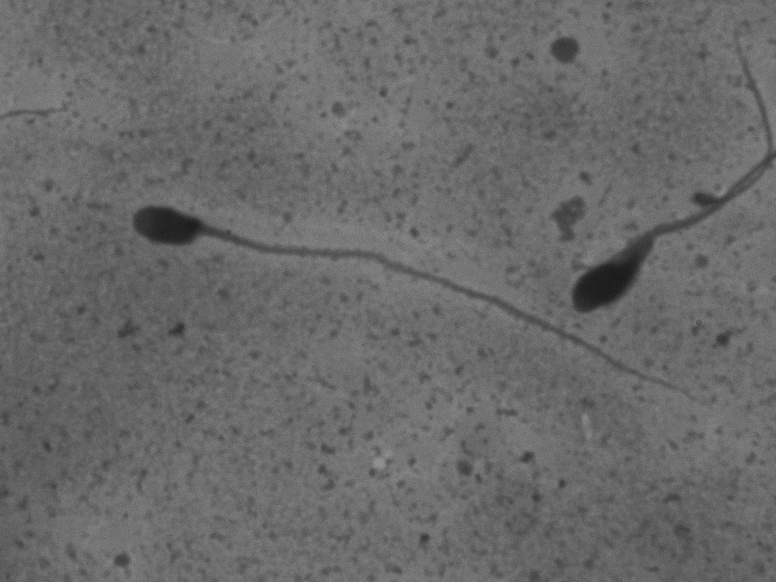Abnormal: (117, 189, 713, 420), (529, 177, 736, 329)
